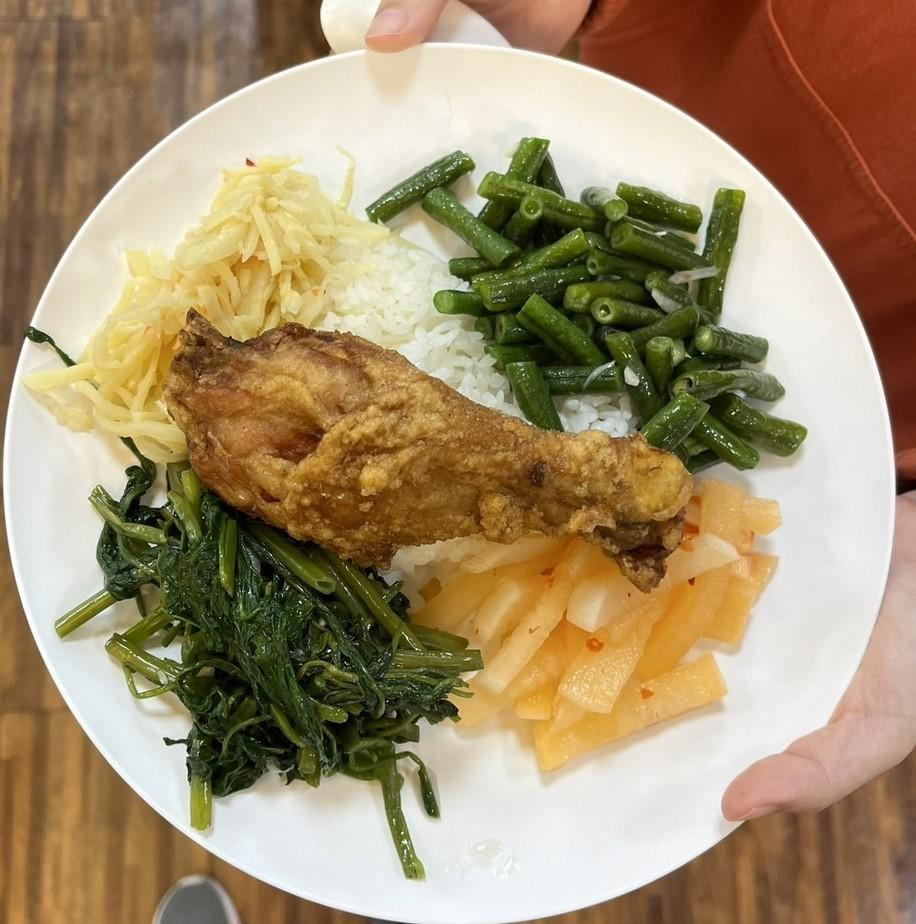big fried chicken leg: (6, 42, 901, 924)
big herbal chicken leg: (322, 224, 632, 440)
braised fish fillet: (66, 446, 481, 888), (368, 132, 806, 464), (406, 480, 790, 769), (46, 146, 344, 461)
braised pork: (160, 304, 701, 555)
